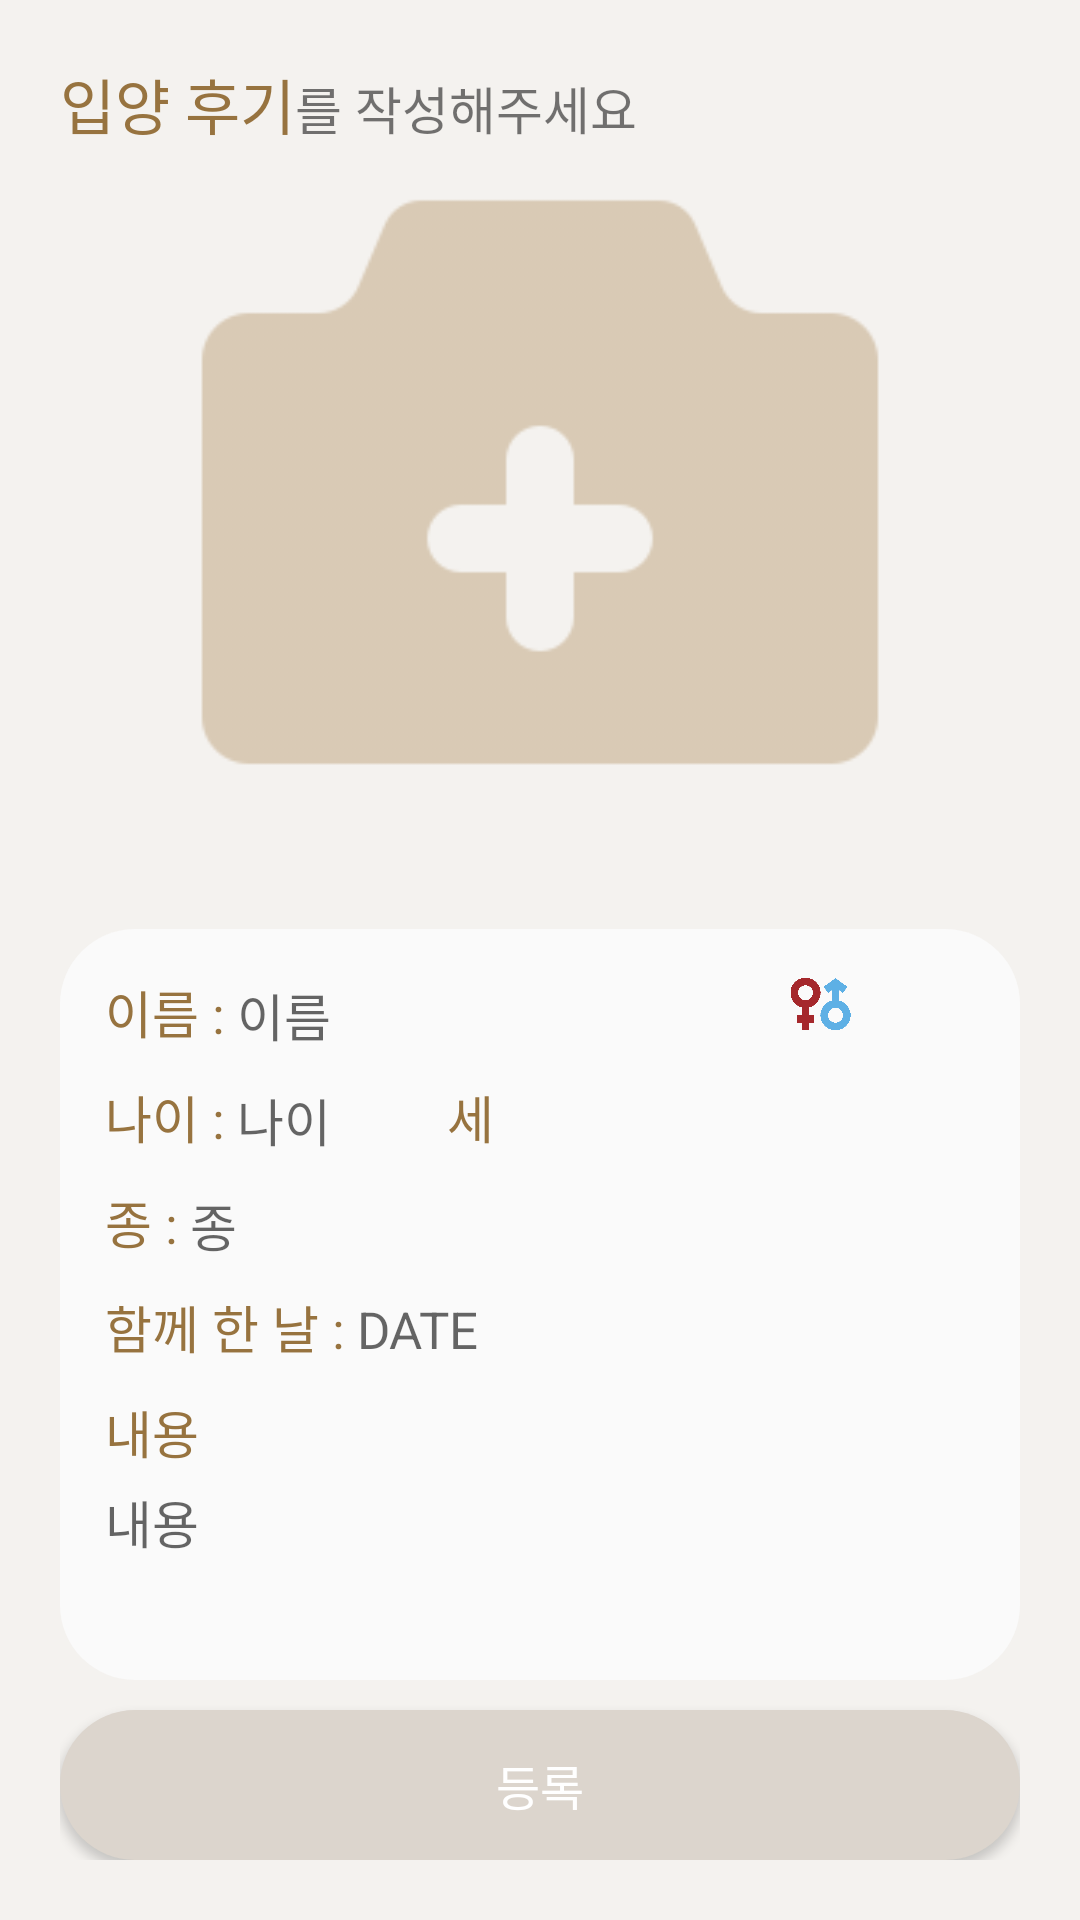

Named icons in this screenshot (1080*1920) and their centers, (x,y):
gender: (821,1004)
